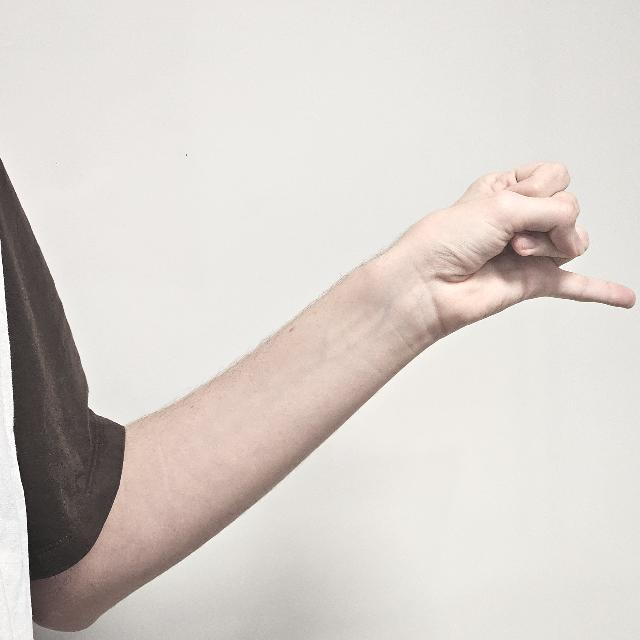Esquerda: (400, 146, 638, 334)
